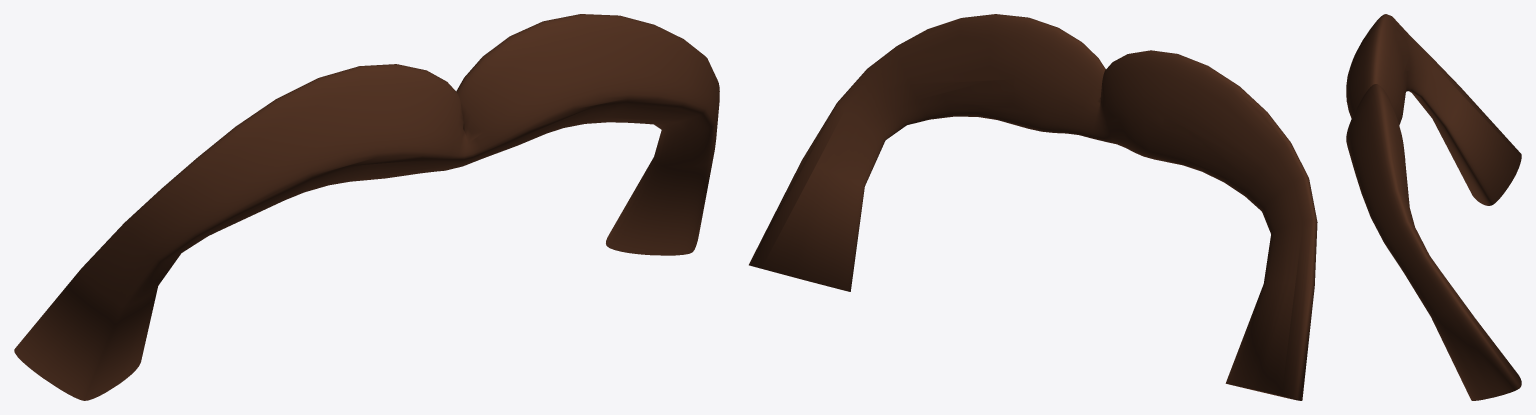
3 renders of one model, left to right at view 1: azimuth 30°, elevation 25°; view 2: azimuth 150°, elevation 25°; view 3: azimuth 270°, elevation 25°, orthographic. The views are drawn at different scales.
Visible parts, largest first — view 1: beardMustacheHorseshoe; view 2: beardMustacheHorseshoe; view 3: beardMustacheHorseshoe.
Boxes of the visible parts, x1,y1,x2,y2 form: beardMustacheHorseshoe: (14,14,719,400); beardMustacheHorseshoe: (749,14,1317,400); beardMustacheHorseshoe: (1346,14,1521,400).
Size of the model in its own units: 0.2658 by 0.123 by 0.0836.
Materials: 1 (1 with a texture image).
